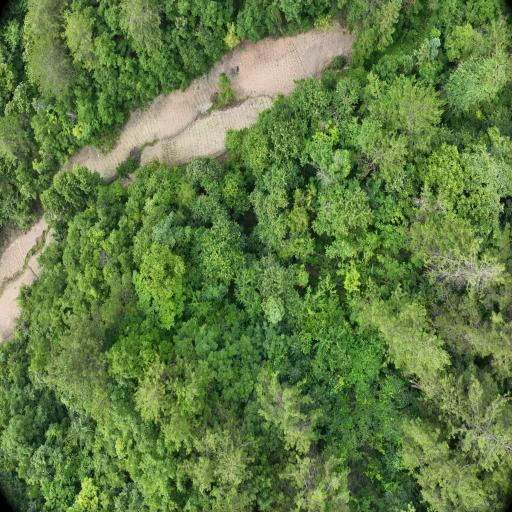dead-tree: (438, 264, 494, 281)
